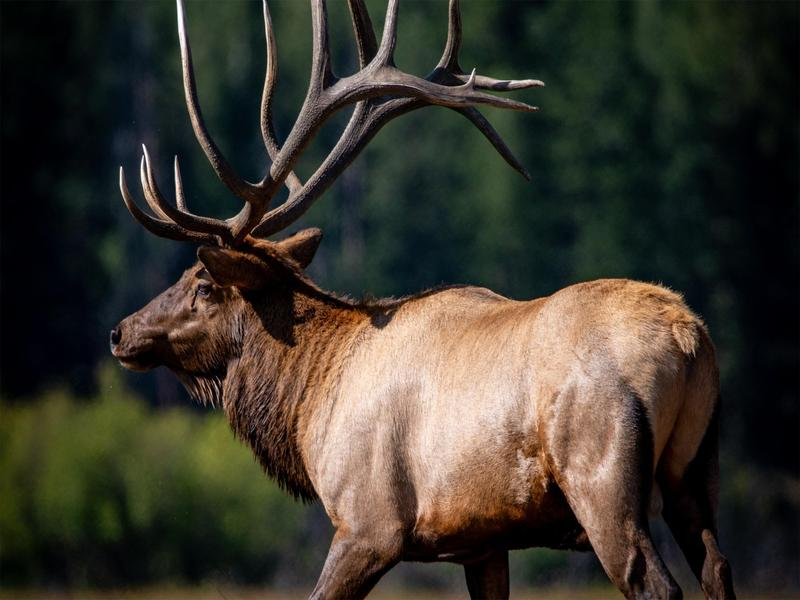elk: (57, 8, 731, 600)
